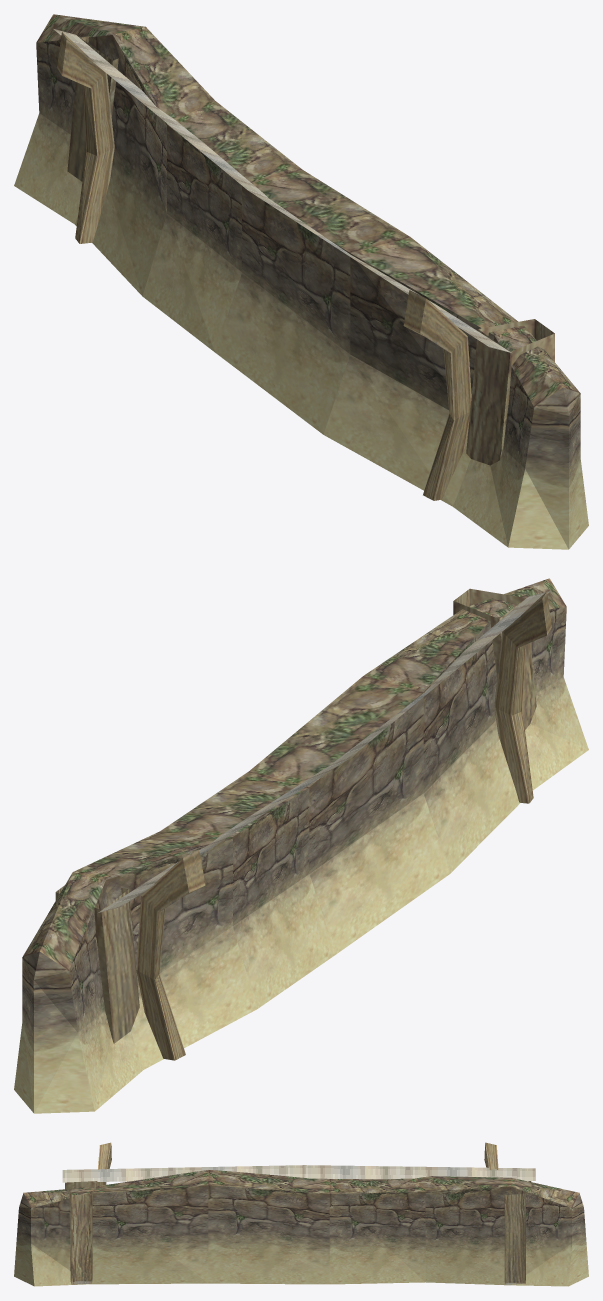
The model's file is C3SMHANGERLEFT.obj.
3 views of the same model, one above another, from view 1: azimuth 30°, elevation 25°; view 2: azimuth 150°, elevation 25°; view 3: azimuth 270°, elevation 25° (orthographic). The views are drawn at different scales.
Visible parts, largest first — view 1: Node 0; view 2: Node 0; view 3: Node 0.
Part boxes in pixels (bbox=[...]): Node 0: bbox=[14, 14, 588, 549]; Node 0: bbox=[14, 578, 588, 1113]; Node 0: bbox=[14, 1142, 588, 1286].
Size of the model in its own units: 3.04 by 5.38 by 24.2.
Materials: 3 (3 with a texture image).
